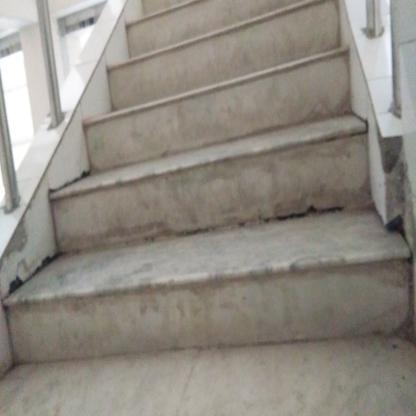stairs: (124, 33, 318, 366)
